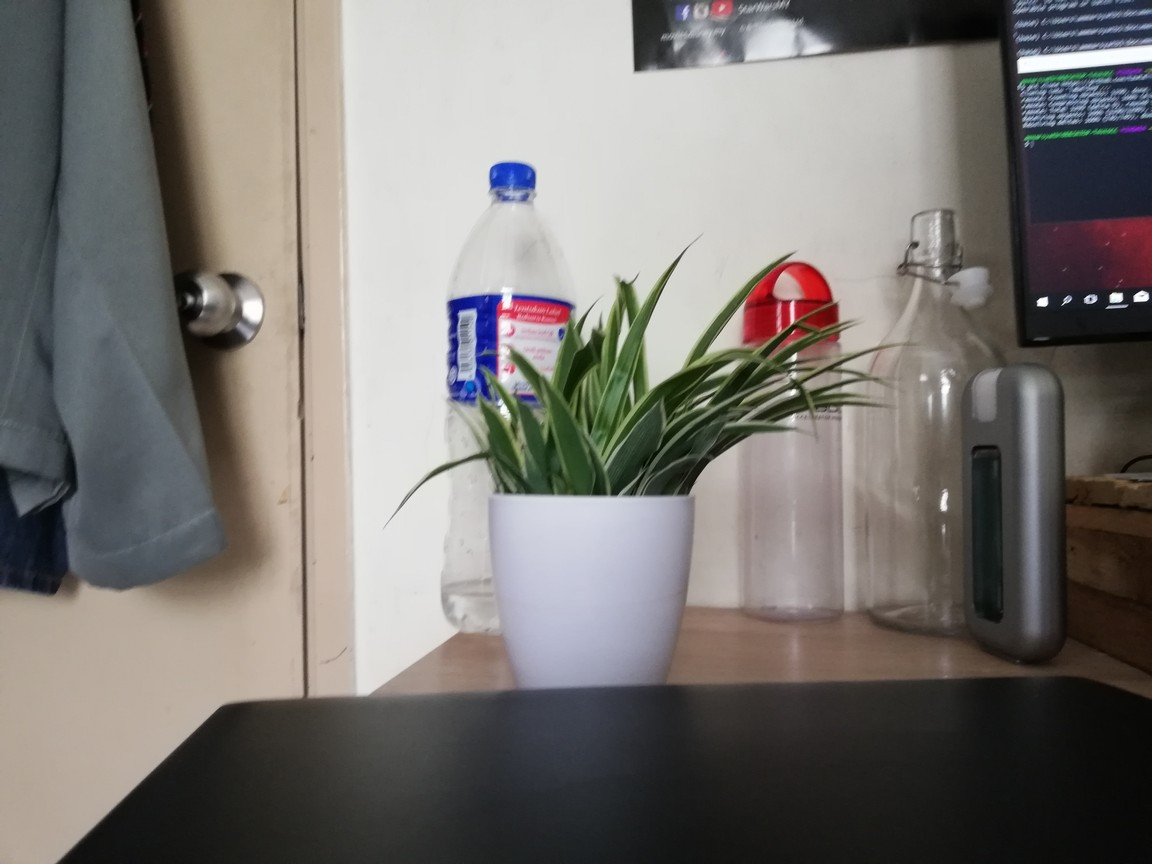daun: (380, 451, 473, 535), (641, 228, 708, 316), (724, 245, 801, 316), (717, 374, 785, 410), (633, 391, 670, 447), (785, 400, 909, 416), (843, 340, 927, 363), (728, 421, 820, 441), (838, 365, 900, 393), (435, 390, 473, 433), (615, 463, 651, 503), (812, 321, 872, 340), (800, 294, 842, 321), (481, 363, 509, 398), (576, 289, 607, 313), (597, 309, 606, 333)
